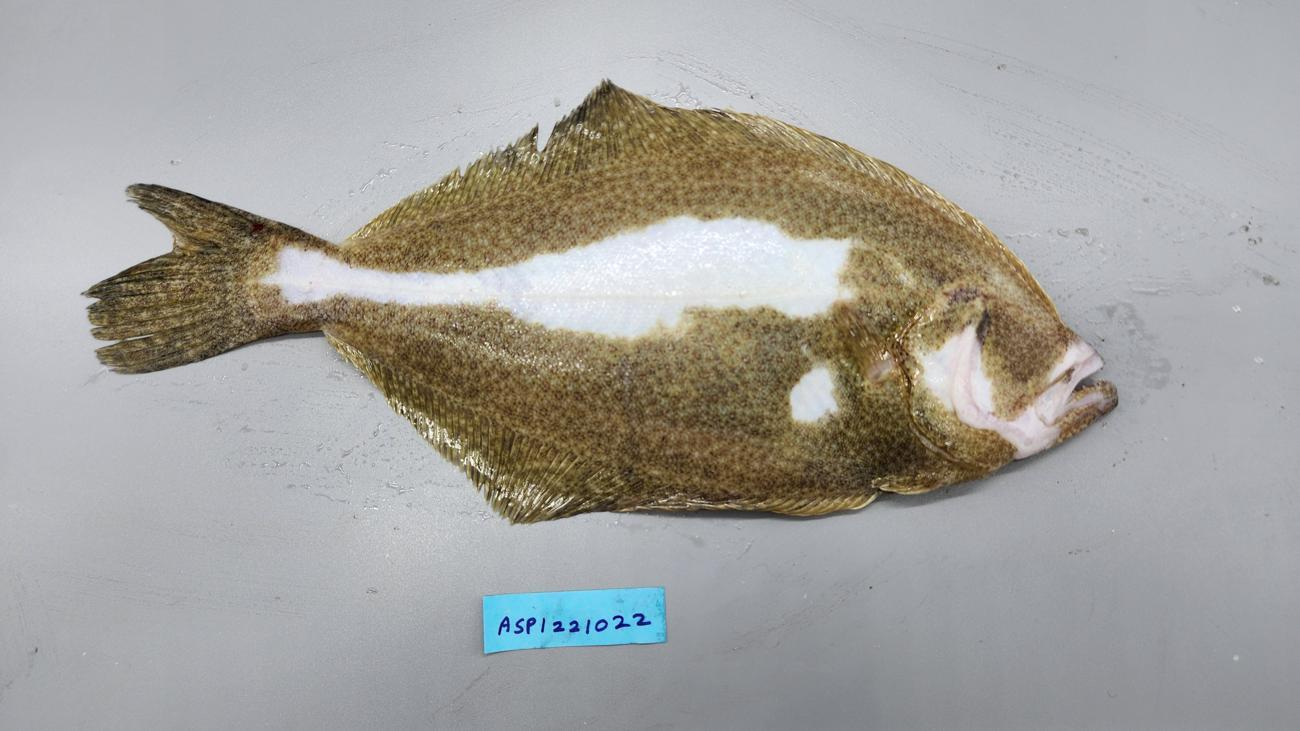SPDYH: (235, 216, 328, 250)
SPOUY: (71, 74, 1128, 532)
